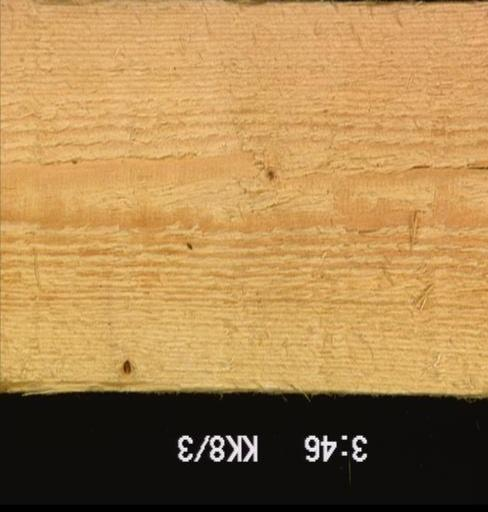dry_knot: (116, 356, 135, 375)
small_knot: (262, 165, 281, 181)
split: (408, 162, 486, 172)
wave: (0, 382, 304, 396)
